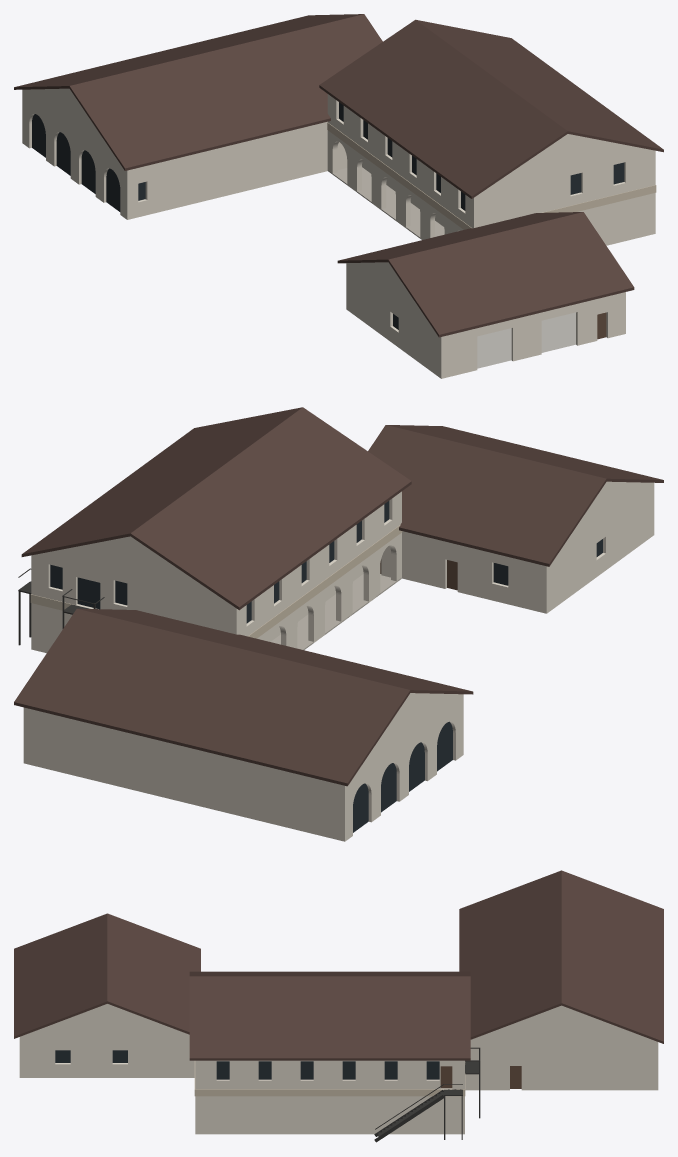
Rendered from 7824-zero-rd-building.glb.
3 renders of one model, top to bottom at view 1: azimuth 30°, elevation 25°; view 2: azimuth 150°, elevation 25°; view 3: azimuth 270°, elevation 25°, orthographic. The views are drawn at different scales.
Visible parts, largest first — view 1: roof (×3), wall (×6), gable (×3), garage (×2), floor_band (×2), loggia_floor; view 2: roof (×3), wall (×6), gable (×3), glass (×5), loggia_floor, floor_band; view 3: roof (×3), wall (×4), gable (×2), floor_band.
Part boxes in pixels (x1,y1,x2,y2): roof (×3): (14,14,663,337); wall (×6): (25,93,655,378); gable (×3): (22,88,655,326); garage (×2): (477,312,575,368); floor_band (×2): (327,122,656,229); loggia_floor: (327,167,444,238); roof (×3): (14,407,663,786); wall (×6): (23,487,651,841); gable (×3): (31,481,654,773); glass (×5): (77,577,452,832); loggia_floor: (271,574,401,649); floor_band: (248,525,402,638); roof (×3): (14,870,663,1060); wall (×4): (24,1036,653,1134); gable (×2): (21,1004,656,1041); floor_band: (195,1089,464,1096).
Bounding box in the file's own units: 34.03 × 10.56 × 51.92.
